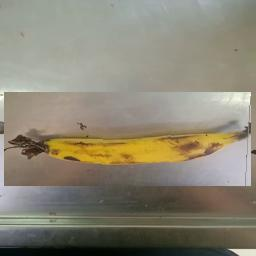Banana Semirotten: (5, 92, 252, 186)
